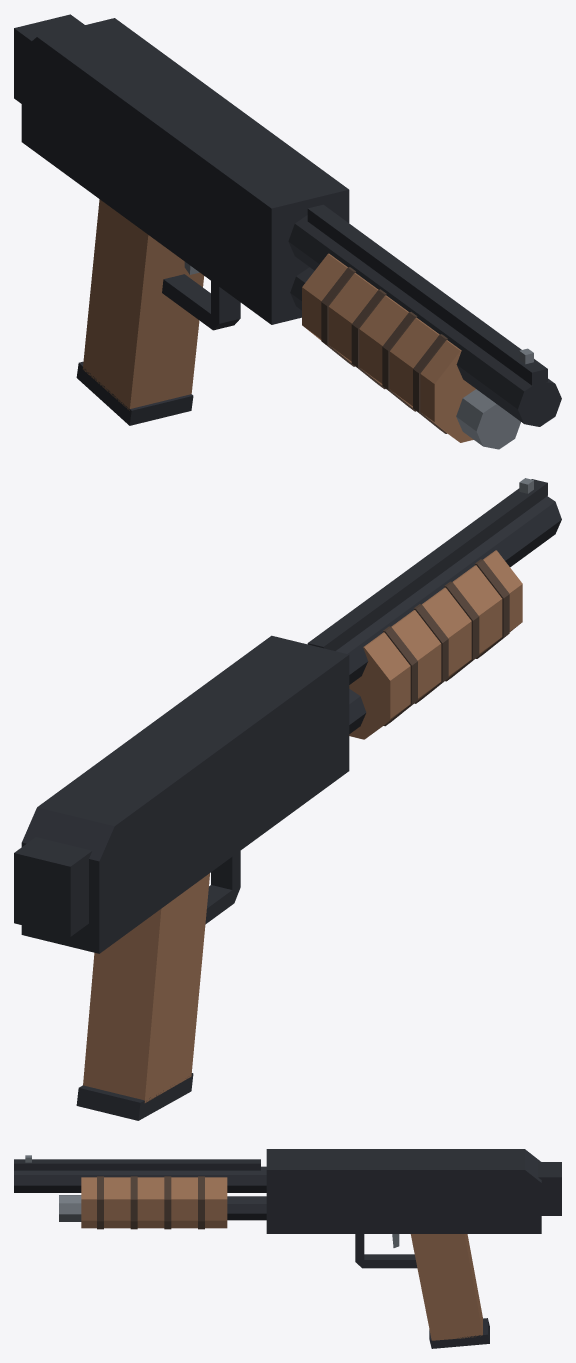
File: shotgun_short.glb
3 renders of one model, top to bottom at view 1: azimuth 30°, elevation 25°; view 2: azimuth 150°, elevation 25°; view 3: azimuth 270°, elevation 25°, orthographic. The views are drawn at different scales.
Parts seen in each view (by area): view 1: shotgun_short_mesh; view 2: shotgun_short_mesh; view 3: shotgun_short_mesh.
Part boxes in pixels (left/top/right/bottom): shotgun_short_mesh: left=14, top=14, right=561, bottom=449; shotgun_short_mesh: left=14, top=478, right=561, bottom=1120; shotgun_short_mesh: left=14, top=1149, right=561, bottom=1348.
Bounding box in the file's own units: 0.0514 × 0.181 × 0.488.
Materials: 1 (1 with a texture image).
